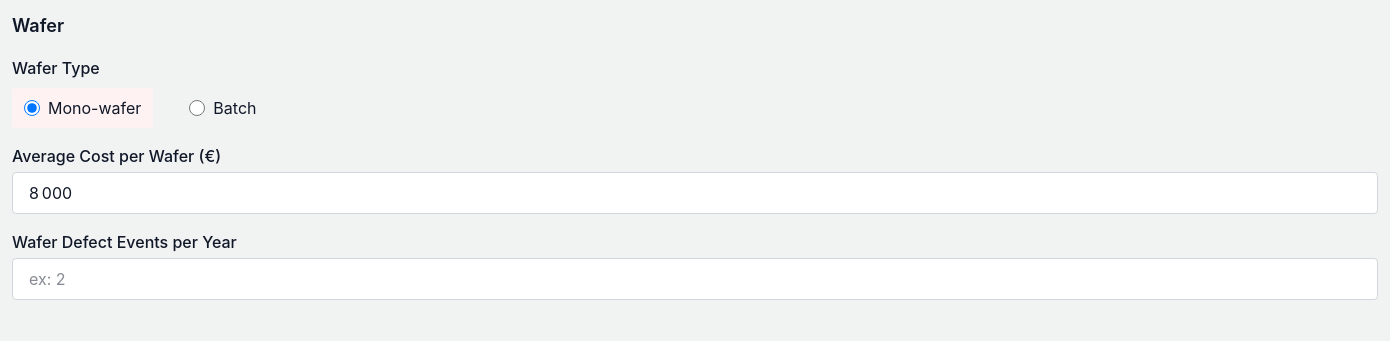
WaferInputs › shows error for invalid wafer cost input
The width and height of the screenshot is (1390, 341).
Replace the text in the field labelled "Average Cost per Wafer (€)" with "-500" at (695, 193), box [12,172,1378,214]
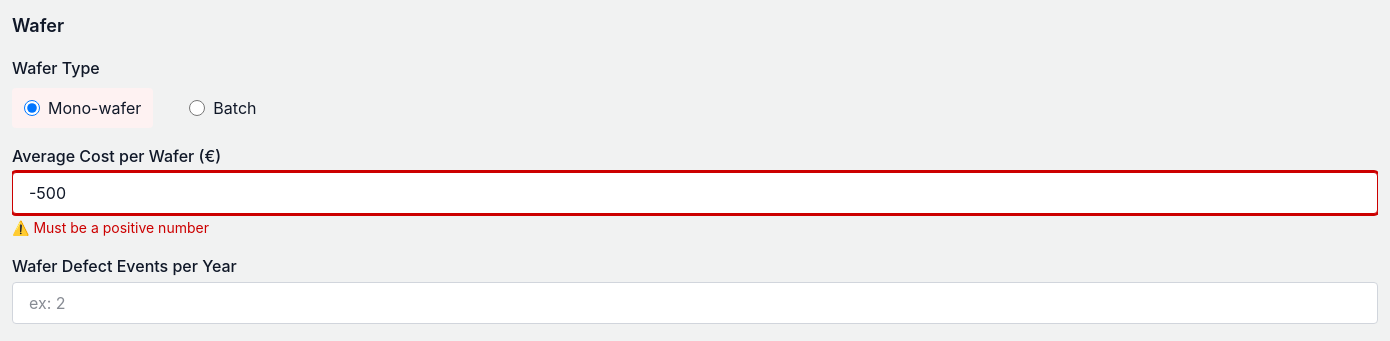
Check: the text "⚠️ Must be a positive number" is shown, box [12,219,209,236]
